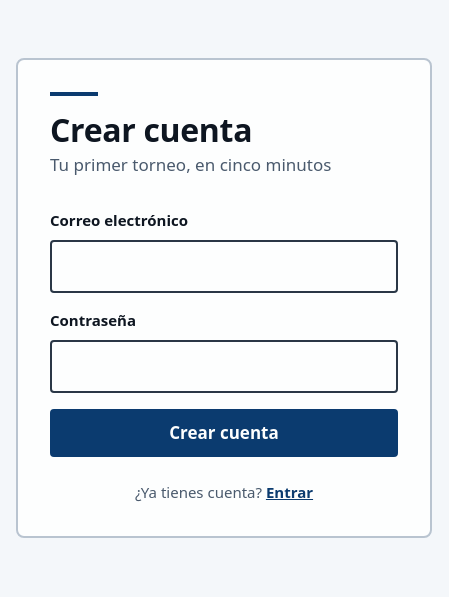
Scenario: SignUpRoute › translates a server-side failure
Type "club@example.es" into the field labelled "Correo electrónico". click: [224, 266]
box: [50,240,398,293]
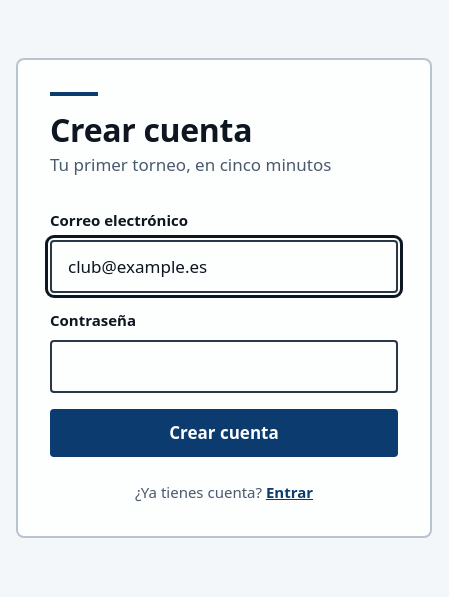
Type "contrasena-larga" into the password field labelled "Contraseña". click: [224, 366]
box: [50,340,398,393]
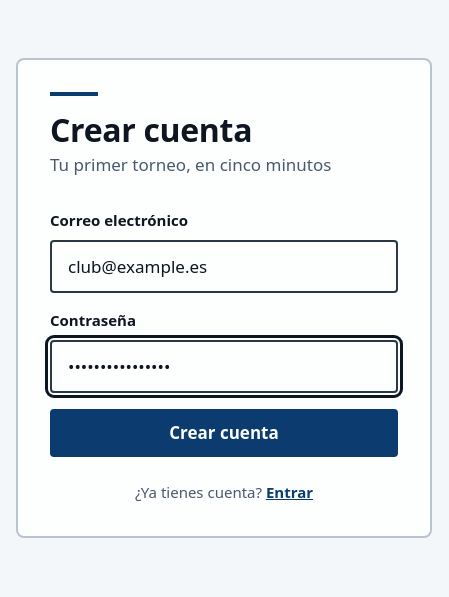
Click the button "Crear cuenta". click: [224, 433]
box: [50,409,398,457]
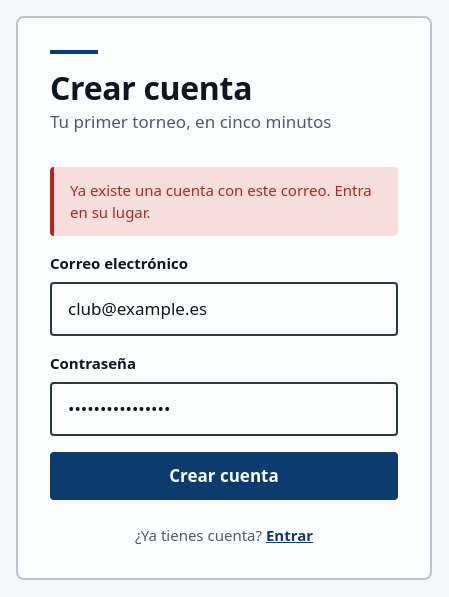
Expected: the message reads "Ya existe una cuenta con este correo. Entra en su lugar.", [70,180,372,222]
